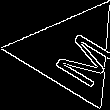M_NW: (33, 20, 108, 86)
